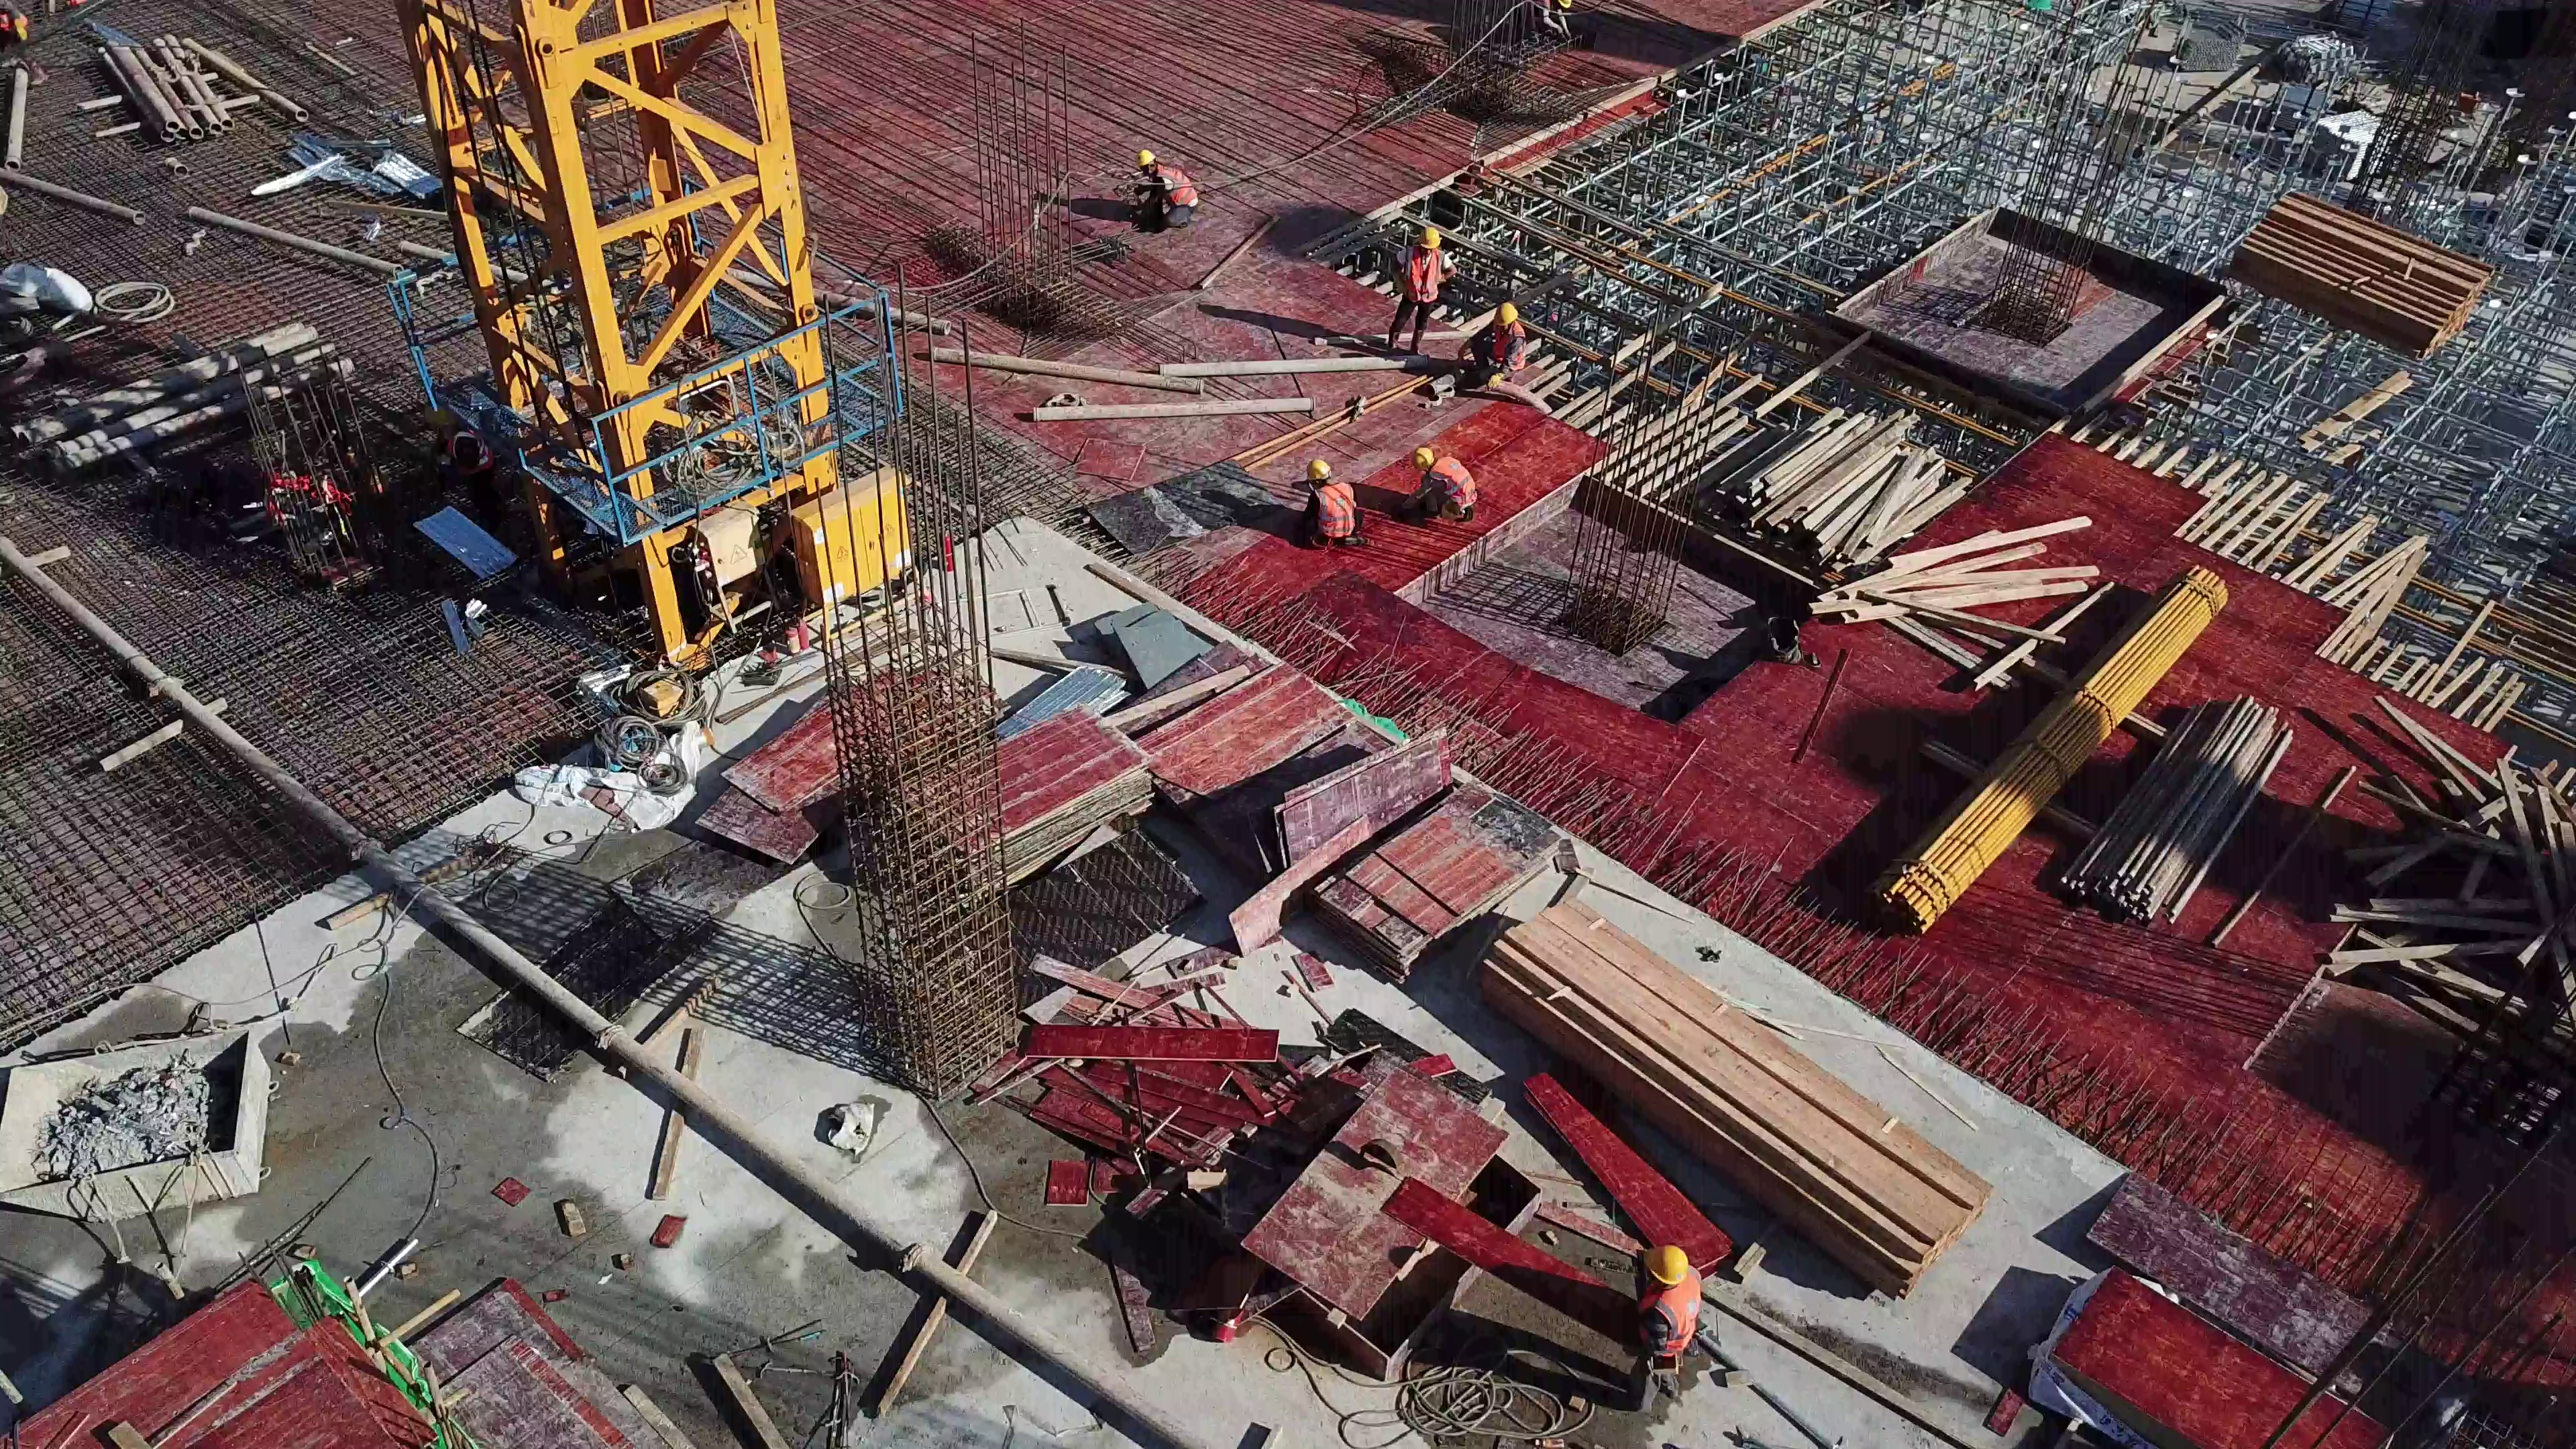board: (1234, 1069, 1514, 1362), (1002, 627, 1171, 933), (1313, 771, 1566, 963), (678, 691, 851, 883), (1160, 646, 1378, 775)
ebox: (796, 462, 912, 626)
helmet: (1635, 1240, 1696, 1287), (1493, 299, 1525, 327), (1417, 226, 1447, 250), (1301, 458, 1334, 480), (1412, 445, 1440, 470), (1136, 147, 1157, 169)
hopper: (1, 1019, 290, 1234)
person: (1620, 1238, 1747, 1395), (1375, 221, 1470, 360), (1451, 287, 1546, 401), (1124, 139, 1214, 236), (1397, 442, 1491, 527), (1299, 456, 1375, 557)
vest: (1638, 1287, 1701, 1351), (1307, 484, 1358, 533), (1402, 250, 1447, 301), (1434, 462, 1481, 506), (1487, 324, 1529, 372), (1153, 165, 1200, 207)
wood: (1529, 883, 1946, 1315), (2230, 178, 2479, 368), (1732, 398, 1980, 583)
